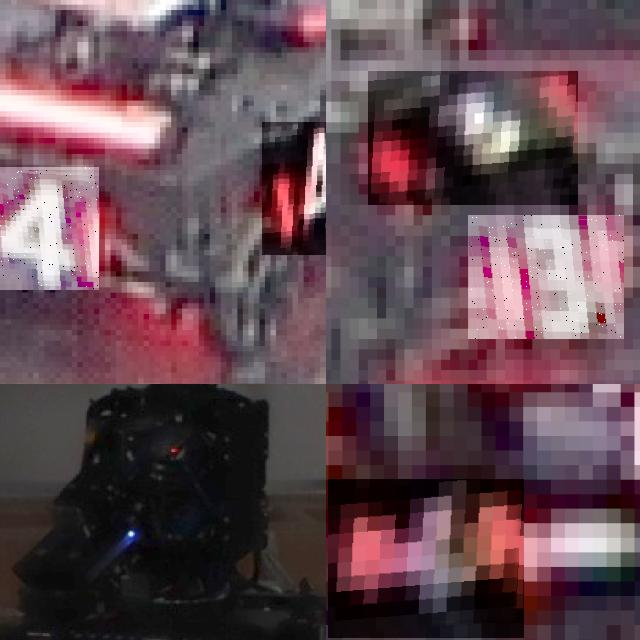R3: (368, 71, 578, 205), (468, 215, 624, 339)
R4: (328, 480, 524, 640), (0, 167, 99, 289), (262, 121, 326, 255)
